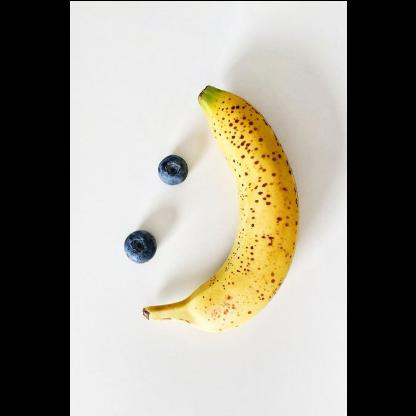banana: (144, 84, 298, 332)
